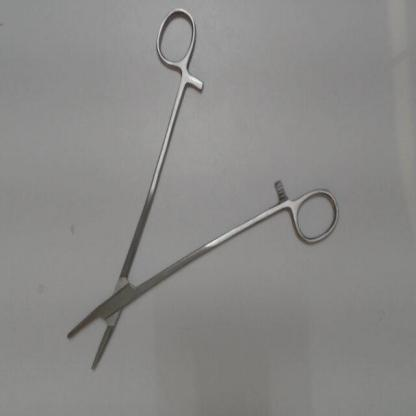8 Mayo Needle Holder: (49, 4, 348, 389)
